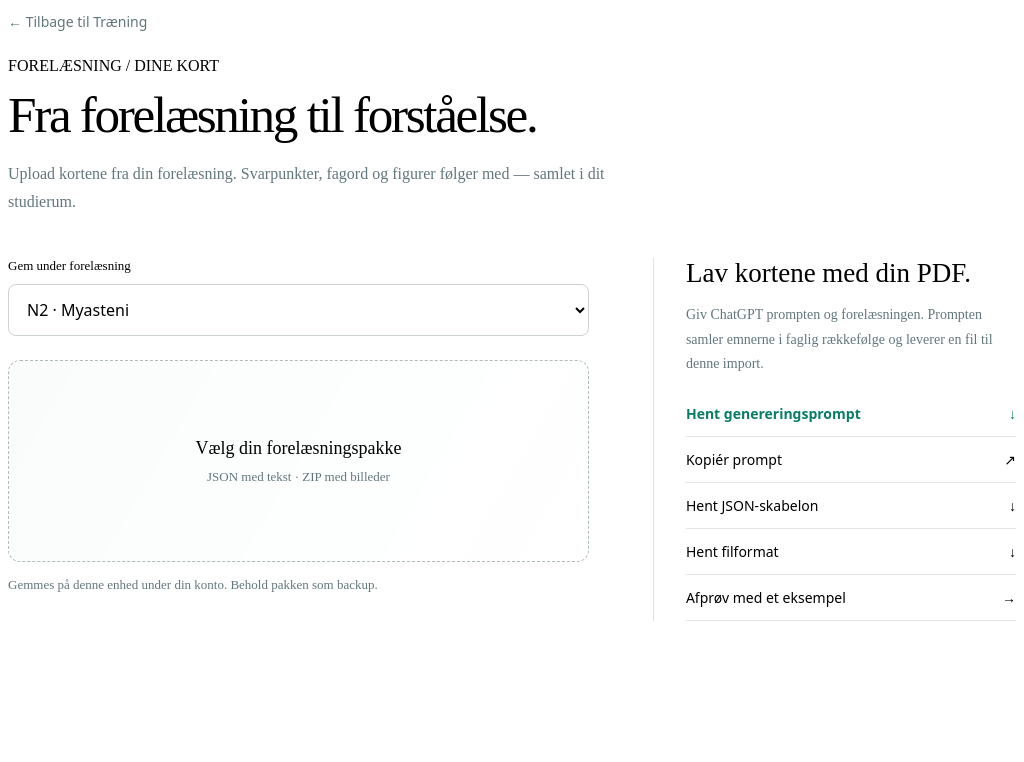
Test: restoration failure is shown and can be retried rather than reporting success
Click the button "Afprøv med et eksempel →". click: (766, 597)
box: [686,574,1016,620]
(page scrolled)
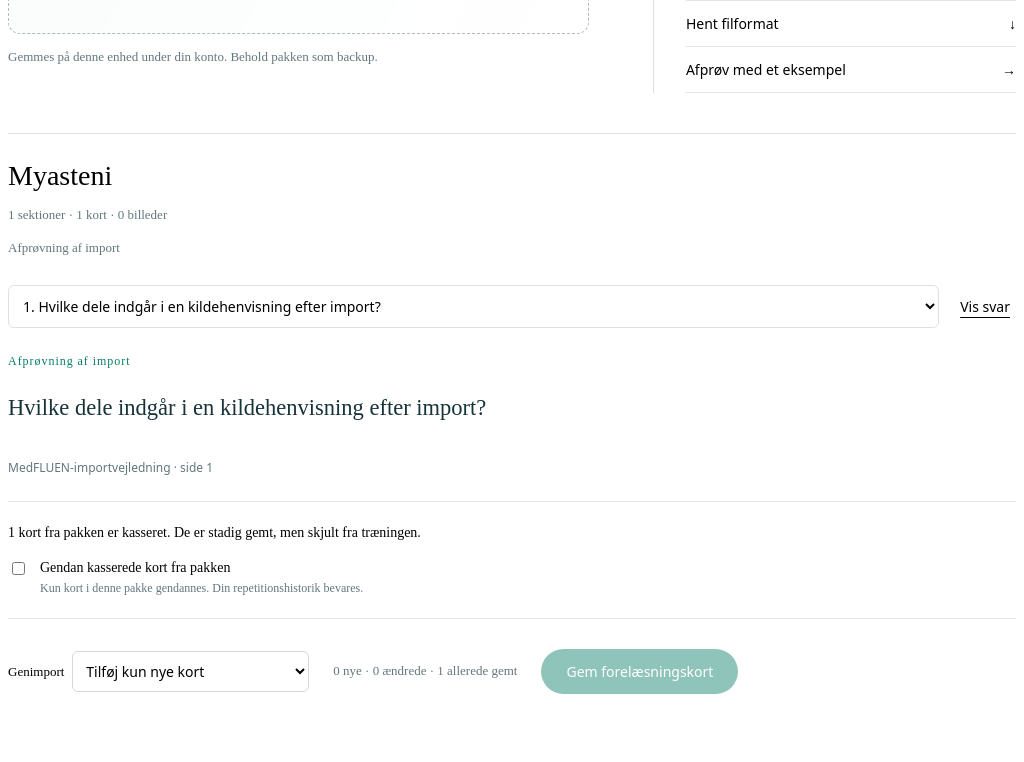
Click the checkbox named "Gendan kasserede kort fra pakken". click: (18, 568)
box: [12,562,25,575]
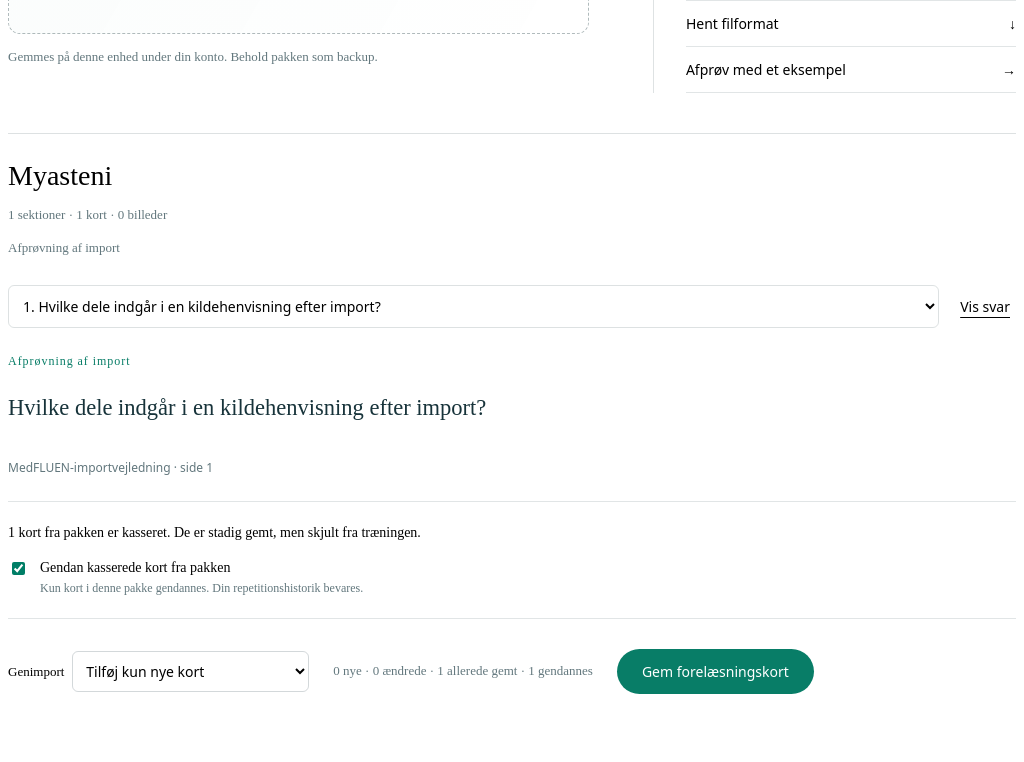
Click the button "Gem forelæsningskort". click: (715, 672)
box: [617,649,814,694]
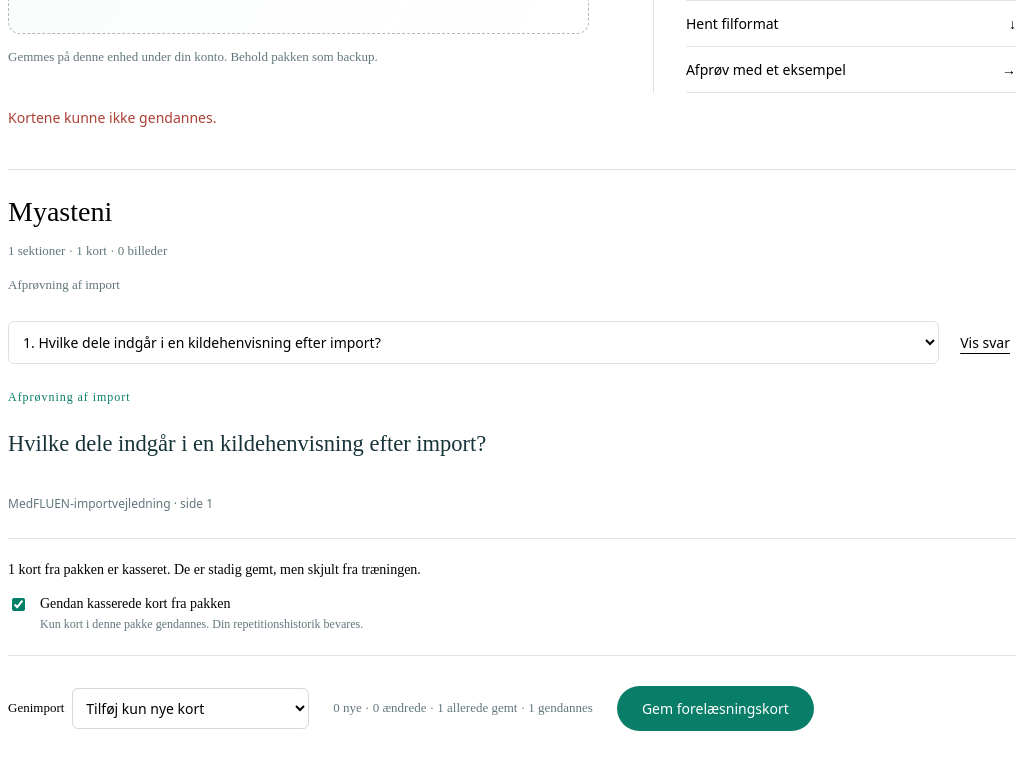
Result: the button "Gem forelæsningskort" is enabled at [617,686,814,731]
Result: the message "Kortene kunne ikke gendannes." is shown at [8,108,216,126]
